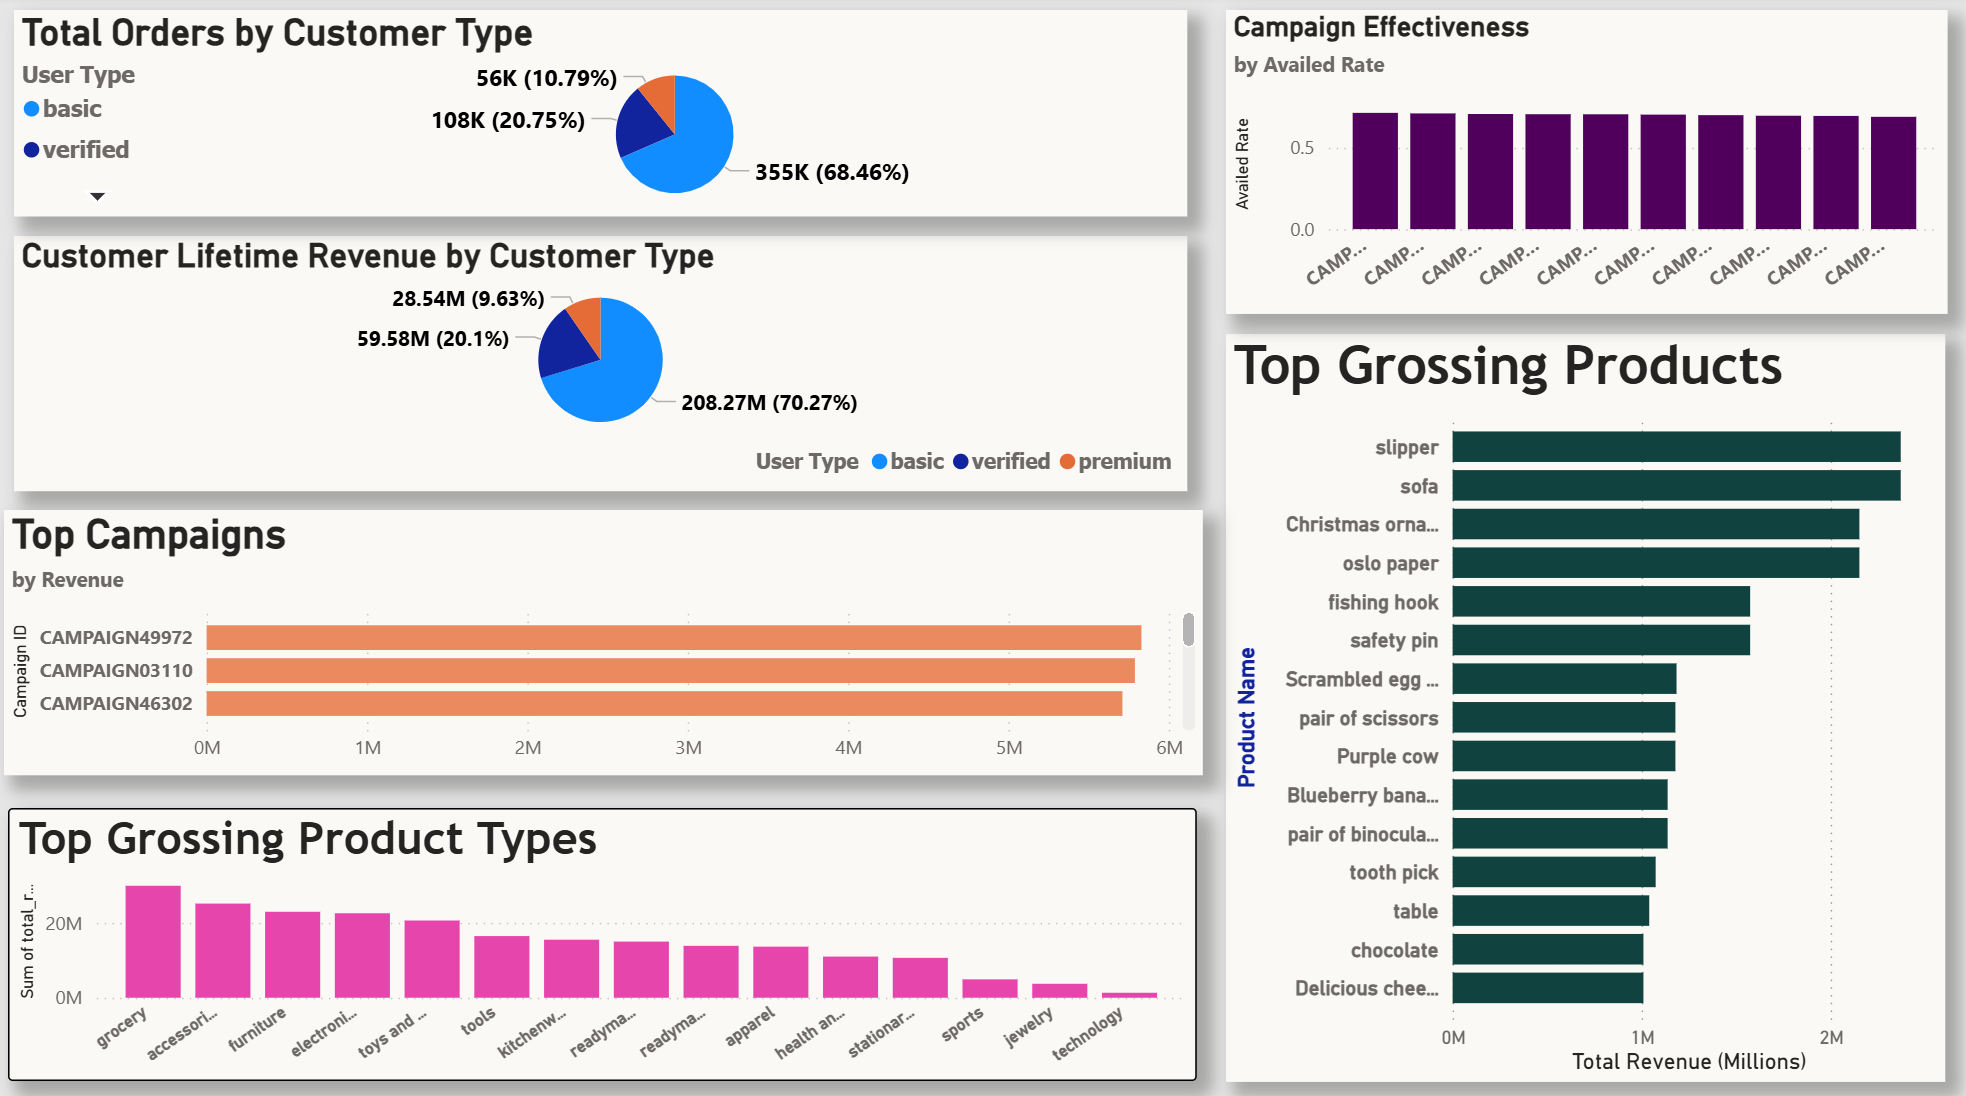

The page's visual inventory and layout, read from the dashboard file:
{"tool":"powerbi","page":{"name":"Performance","canvas":[1280,720],"ordinal":1},"visuals":[{"type":"clusteredBarChart","title":"Top Grossing Products","fields":{"Category":["revenue_by_product.product_name"],"Y":["Sum(revenue_by_product.total_revenue)"]},"box":[800,220,465,483.3],"z":0},{"type":"clusteredColumnChart","title":"Top Grossing Product Types","fields":{"Category":["revenue_by_product_type.product_type"],"Y":["Sum(revenue_by_product_type.total_revenue)"]},"box":[13.3,526.7,768.3,176.7],"z":1000},{"type":"pieChart","title":"Customer Lifetime Revenue by Customer Type","fields":{"Category":["customer_lifetime_value.user_type"],"Y":["Sum(customer_lifetime_value.total_revenue)"]},"box":[16.7,156.7,758.3,165],"z":2000},{"type":"pieChart","title":"Total Orders by Customer Type","fields":{"Category":["customer_lifetime_value.user_type"],"Y":["Sum(customer_lifetime_value.total_orders)"]},"box":[16.7,10,758.3,133.3],"z":3000},{"type":"clusteredColumnChart","title":"Campaign Effectiveness","fields":{"Category":["campaign_performance.campaign_id"],"Y":["Sum(campaign_performance.availed_rate)"]},"box":[800,10,466.7,196.7],"z":4000},{"type":"barChart","title":"Top Campaigns","fields":{"Category":["campaign_performance.campaign_id"],"Y":["Sum(campaign_performance.total_revenue)"]},"box":[10,333.3,775,171.7],"z":5000}]}

Visuals, with their boxes in screenshot pixels (x1, y1, x2, y2), scaled from the page's 1280x720 canvas onto the 1966x1096 screenshot:
"Top Grossing Products" clusteredBarChart: bbox(1229, 335, 1943, 1071)
"Top Grossing Product Types" clusteredColumnChart: bbox(20, 802, 1200, 1071)
"Customer Lifetime Revenue by Customer Type" pieChart: bbox(26, 239, 1190, 490)
"Total Orders by Customer Type" pieChart: bbox(26, 15, 1190, 218)
"Campaign Effectiveness" clusteredColumnChart: bbox(1229, 15, 1946, 315)
"Top Campaigns" barChart: bbox(15, 507, 1206, 769)
